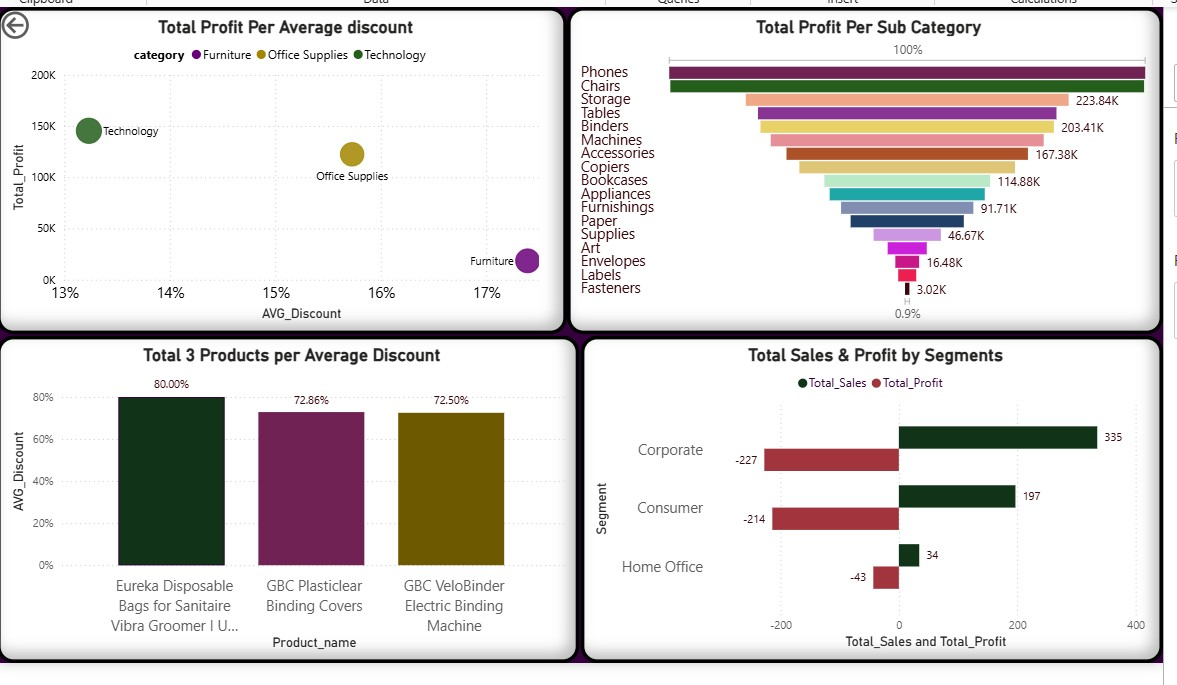

Layout of this report page (visuals, bound fields, positions):
{"tool":"powerbi","page":{"name":"Marketing ROI & Discounts","canvas":[1280,720],"ordinal":4},"visuals":[{"type":"scatterChart","title":"Total Profit Per Average discount","fields":{"Y":["superstore_dataset.Total_Profit"],"Series":["superstore_dataset.category"],"Size":["superstore_dataset.Total_Sales"],"X":["superstore_dataset.AVG_Discount"]},"box":[0,0,625.7,359.5],"z":0},{"type":"funnel","title":"Total Profit Per Sub Category","fields":{"Y":["superstore_dataset.Total_Sales"],"Category":["superstore_dataset.subcategory"]},"box":[625.7,0,654.5,359.5],"z":1000},{"type":"actionButton","box":[0,0,100,40],"z":2000},{"type":"clusteredColumnChart","title":"Total 3 Products per Average Discount","fields":{"Category":["superstore_dataset.Product_name"],"Y":["superstore_dataset.AVG_Discount"]},"box":[0,360.9,639.5,359.5],"z":3000},{"type":"clusteredBarChart","title":"Total Sales & Profit by Segments","fields":{"Category":["superstore_dataset.segment"],"Y":["superstore_dataset.Total_Sales","superstore_dataset.Total_Profit"]},"box":[640.8,360.9,639.5,359.5],"z":4000}]}

Visuals, with their boxes in screenshot pixels (x1, y1, x2, y2):
"Total Profit Per Average discount" scatterChart: [0, 3, 564, 329]
"Total Profit Per Sub Category" funnel: [564, 3, 1158, 329]
actionButton: [0, 3, 88, 39]
"Total 3 Products per Average Discount" clusteredColumnChart: [0, 330, 577, 656]
"Total Sales & Profit by Segments" clusteredBarChart: [578, 330, 1158, 656]
